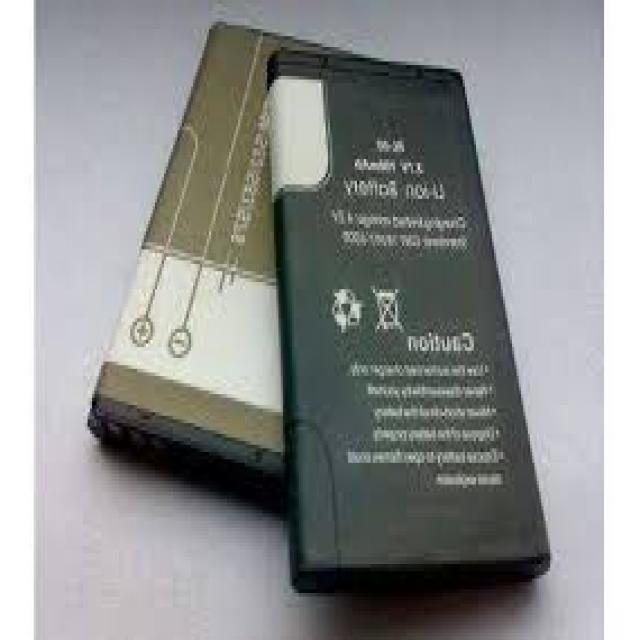battery: (266, 51, 550, 600), (89, 22, 316, 514)
